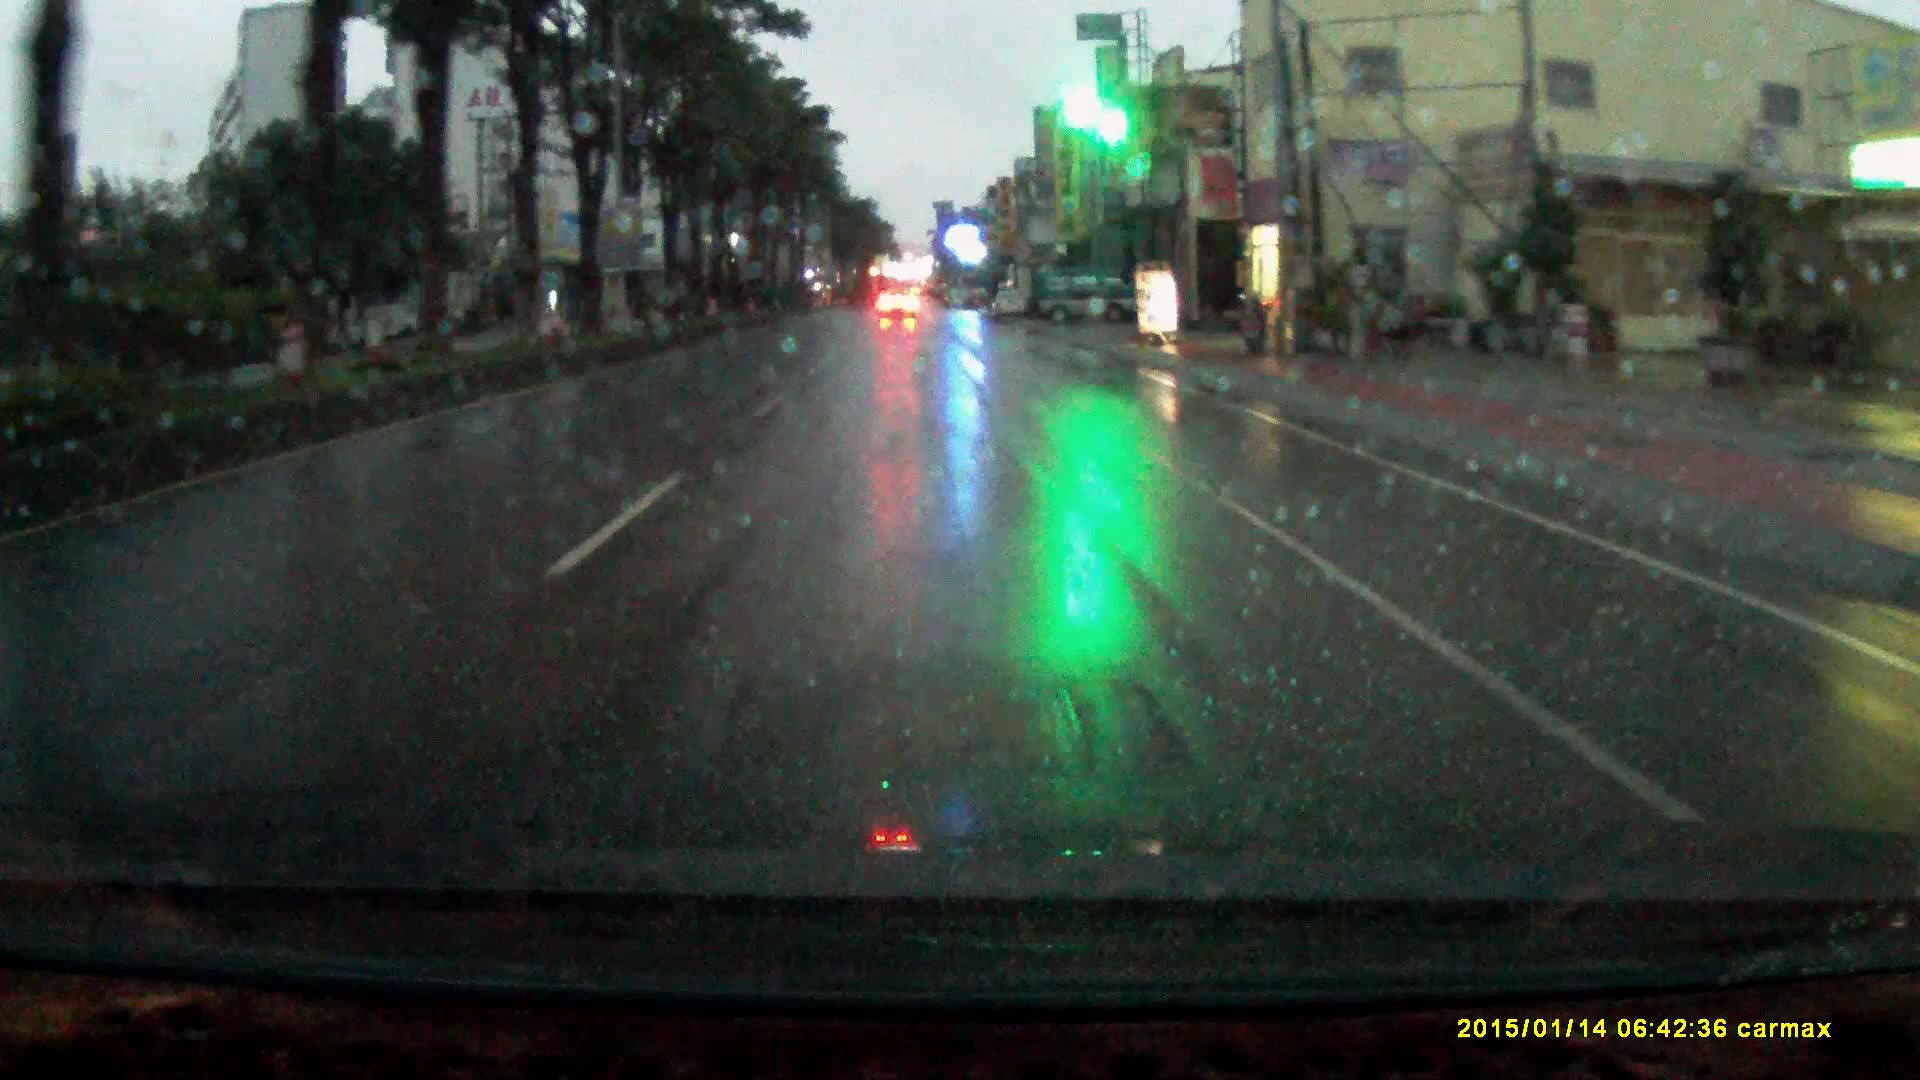vehicle: (1040, 270, 1139, 327), (878, 290, 923, 324), (992, 287, 1033, 324)
